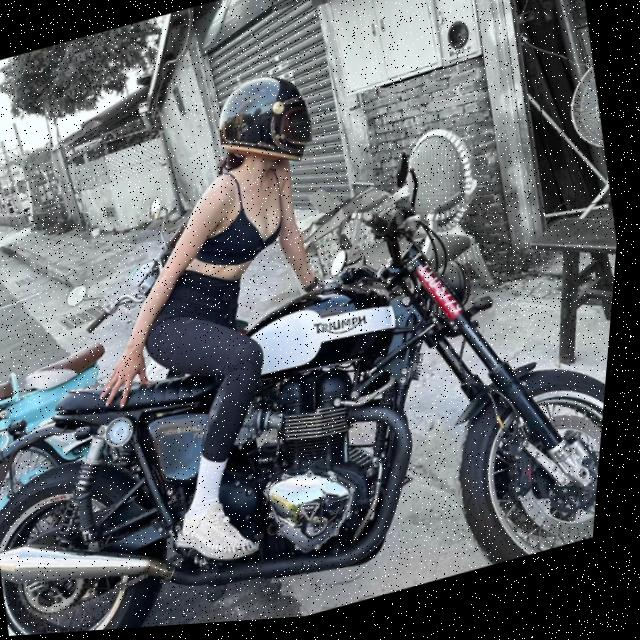helmet: (198, 62, 329, 193)
